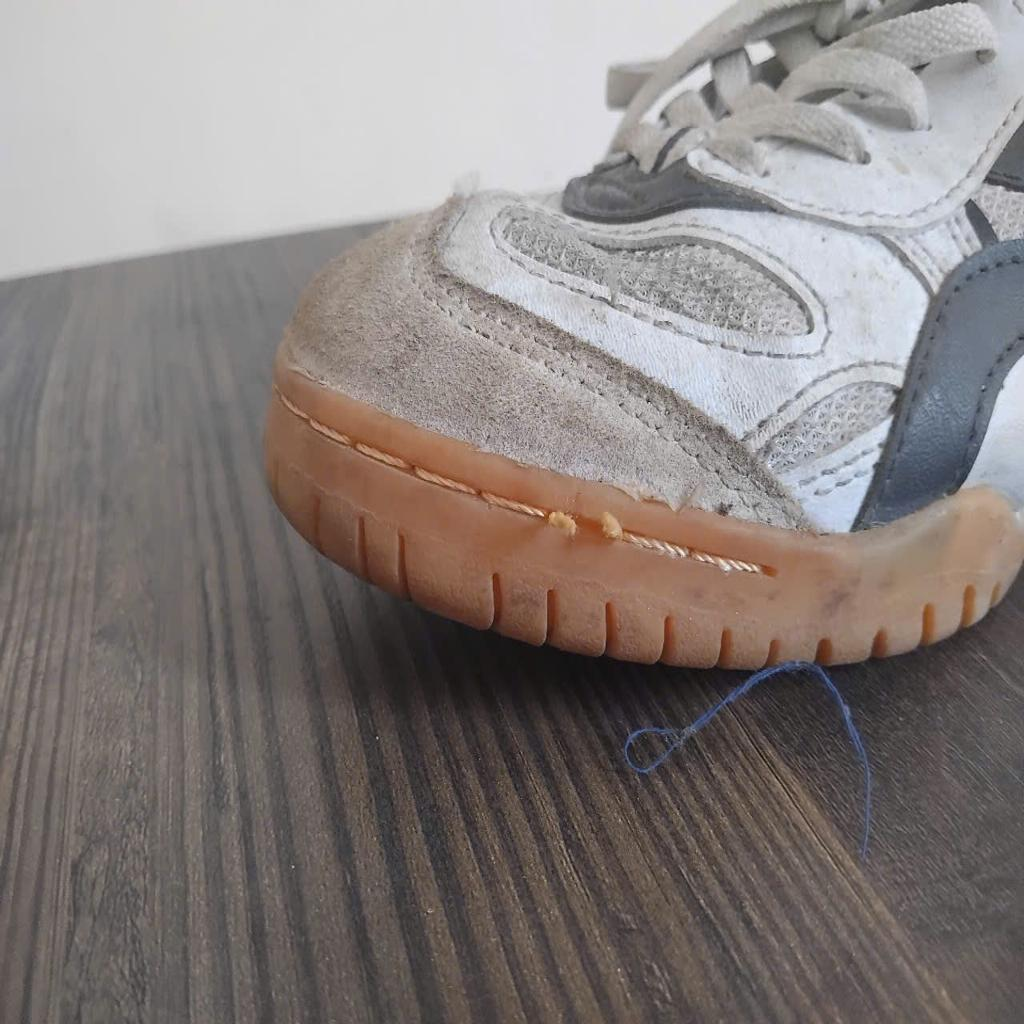broken: (543, 502, 627, 551)
